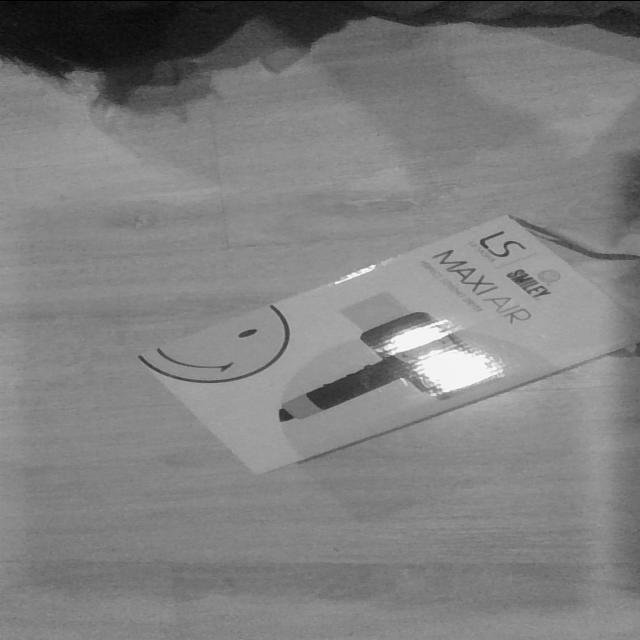Dryer: (134, 213, 636, 475)
